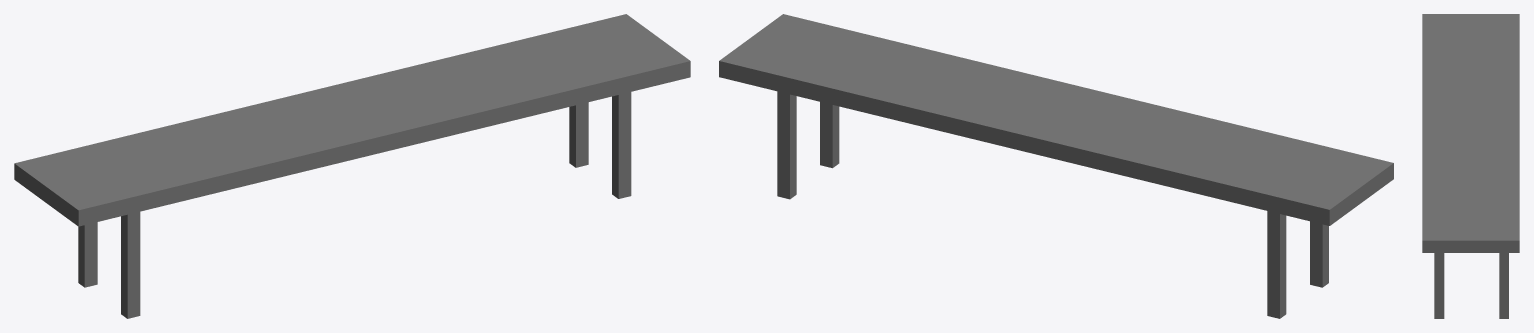
File: SM_Chairs_03.fbx
The picture shows the model from 3 angles, left to right: view 1: azimuth 30°, elevation 25°; view 2: azimuth 150°, elevation 25°; view 3: azimuth 270°, elevation 25°; orthographic projection. The views are drawn at different scales.
Visible parts, largest first — view 1: SM_Chairs_03; view 2: SM_Chairs_03; view 3: SM_Chairs_03.
Part boxes in pixels (x1,y1,x2,y2): SM_Chairs_03: (14,14,690,318); SM_Chairs_03: (719,14,1393,318); SM_Chairs_03: (1422,14,1519,318).
Size of the model in its own units: 220 by 44.09 by 40.
